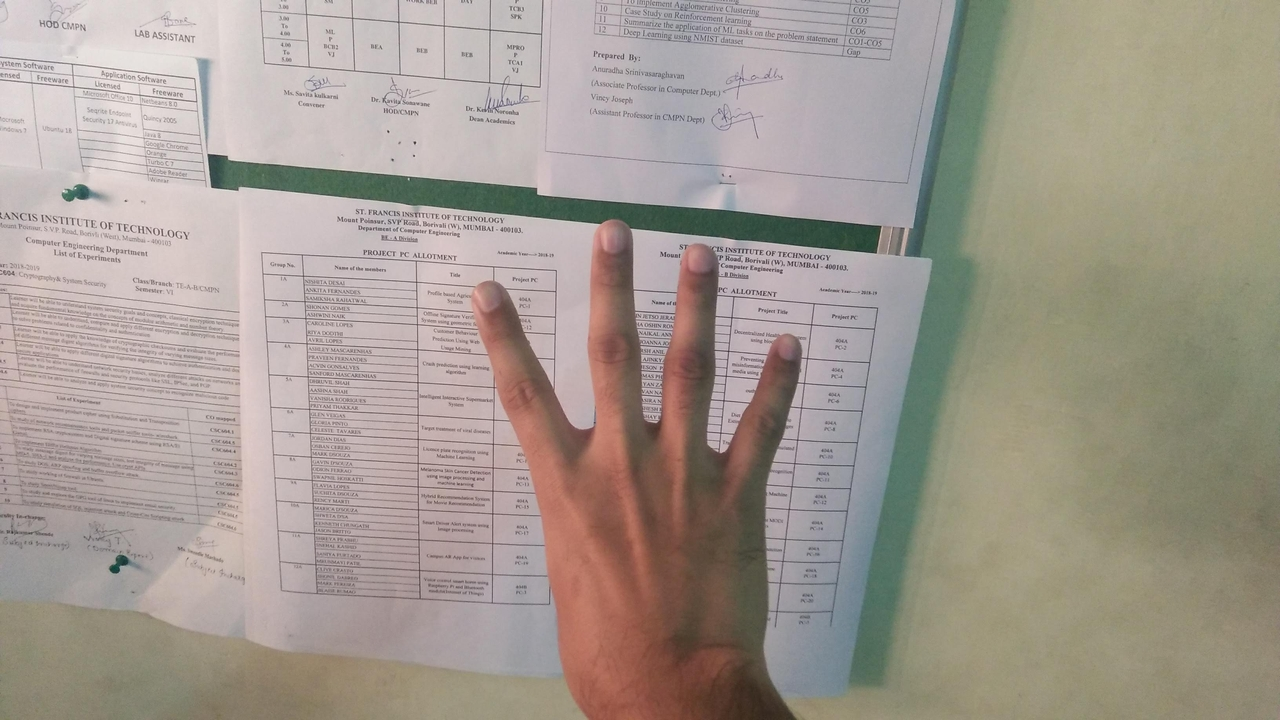fingertip: (584, 208, 640, 262), (464, 276, 516, 326), (668, 234, 722, 282), (760, 328, 810, 374)
